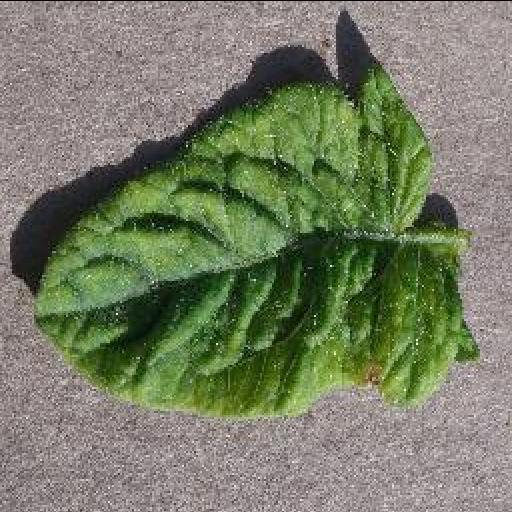disease_tomato: (26, 68, 482, 414)
